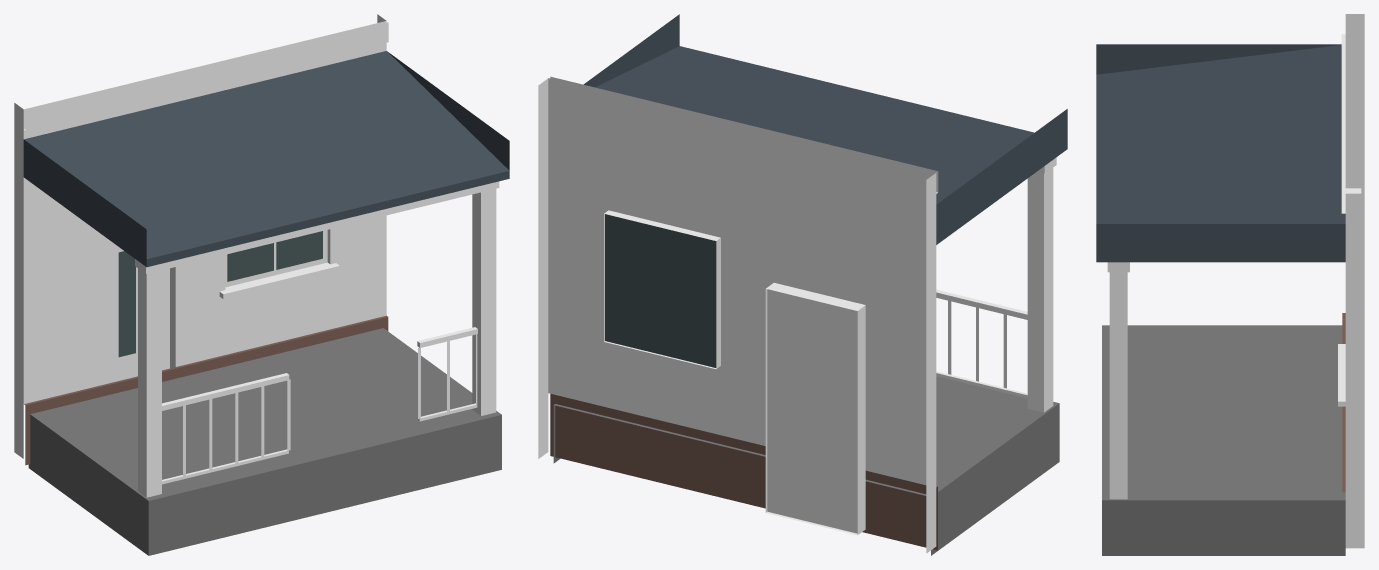
File: base-stair3.fbx
The picture shows the model from 3 angles, left to right: view 1: azimuth 30°, elevation 25°; view 2: azimuth 150°, elevation 25°; view 3: azimuth 270°, elevation 25°; orthographic projection. The views are drawn at different scales.
Visible parts, largest first — view 1: a2000/600/base-stair; view 2: a2000/600/base-stair; view 3: a2000/600/base-stair.
Boxes of the visible parts, <box> form: a2000/600/base-stair: <box>14,14,509,555</box>; a2000/600/base-stair: <box>538,14,1067,555</box>; a2000/600/base-stair: <box>1096,14,1364,555</box>.
Size of the model in its own units: 3.8 by 3.6 by 2.4.
